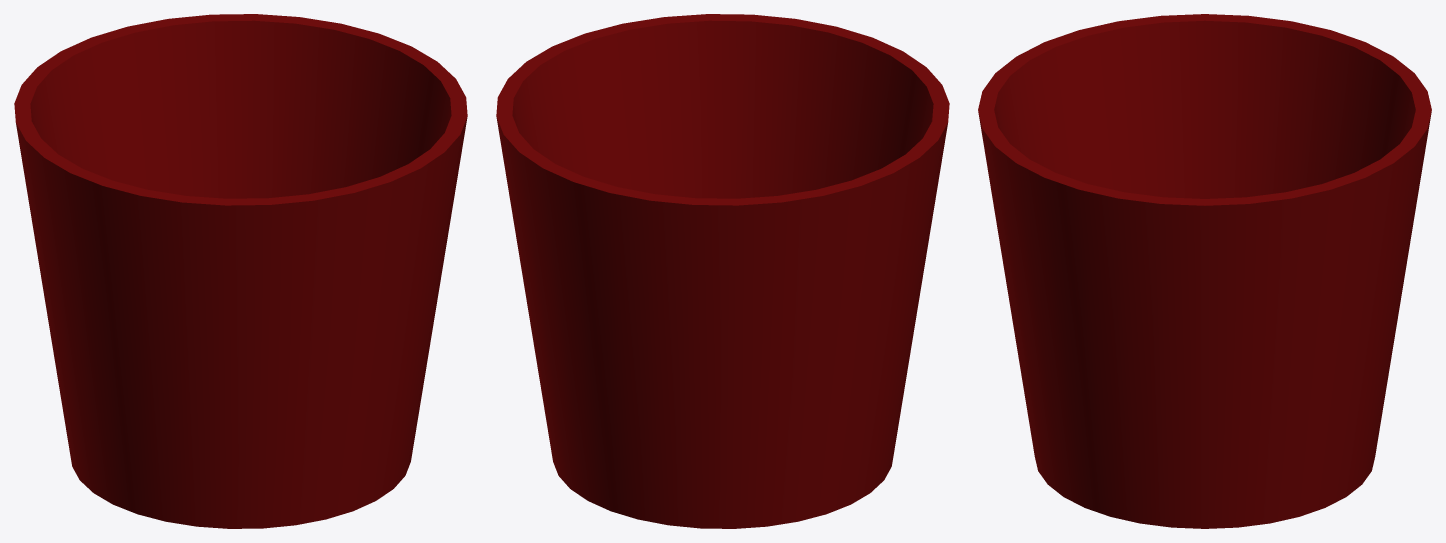
Rendered from Pot_4.fbx.
3 renders of one model, left to right at view 1: azimuth 30°, elevation 25°; view 2: azimuth 150°, elevation 25°; view 3: azimuth 270°, elevation 25°, orthographic.
Parts seen in each view (by area): view 1: pCylinder1791; view 2: pCylinder1791; view 3: pCylinder1791.
Boxes of the visible parts, <box> form: pCylinder1791: <box>14,14,467,528</box>; pCylinder1791: <box>496,14,949,528</box>; pCylinder1791: <box>978,14,1431,528</box>.
Bounding box in the file's own units: 10.75 × 9.07 × 10.75.
